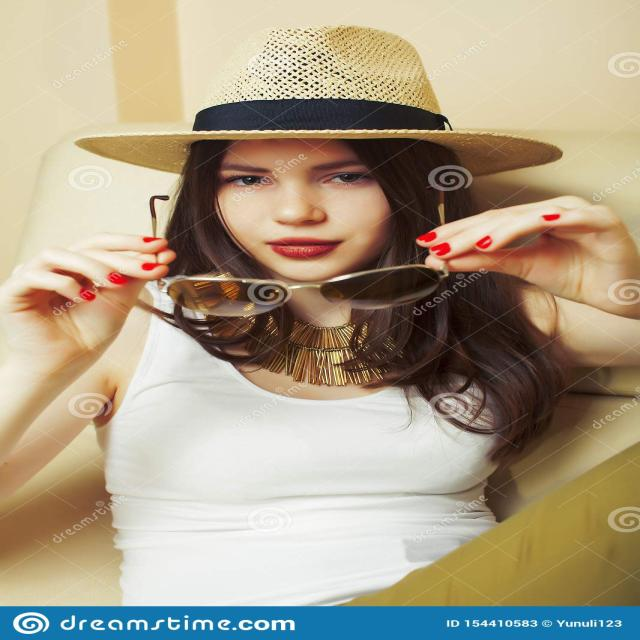hat: (68, 24, 568, 276)
